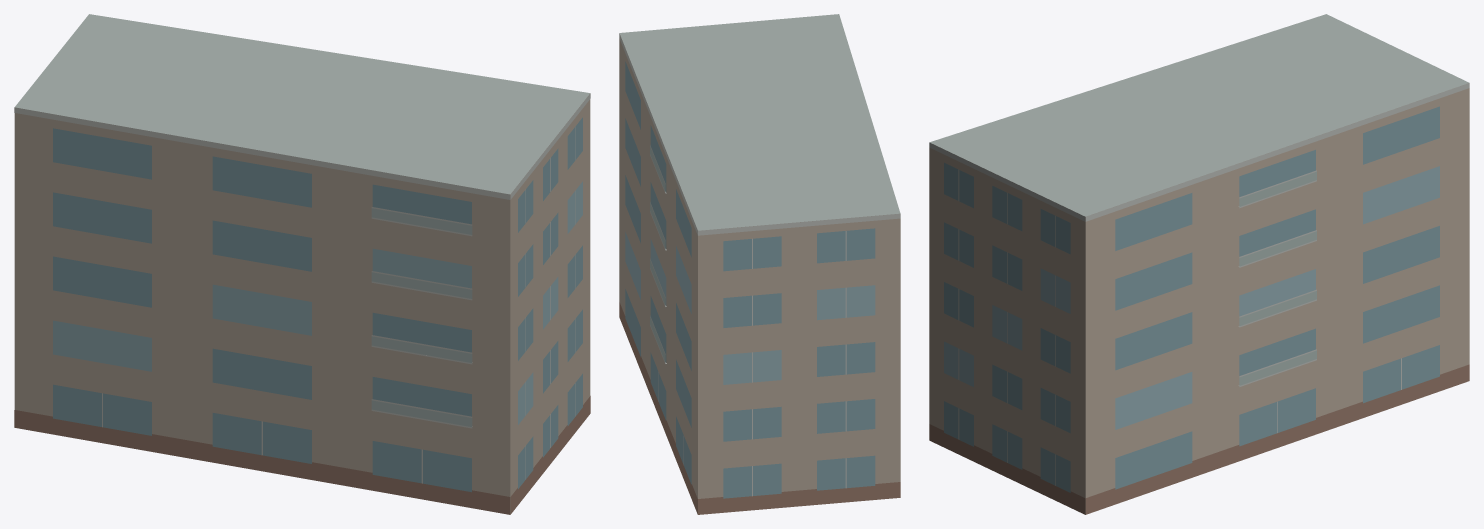
File: survey-upis-32725034.glb
3 views of the same model, side by side, from view 1: azimuth 30°, elevation 25°; view 2: azimuth 150°, elevation 25°; view 3: azimuth 270°, elevation 25° (orthographic). The views are drawn at different scales.
Parts seen in each view (by area): view 1: survey-upis-32725034.tmp; view 2: survey-upis-32725034.tmp; view 3: survey-upis-32725034.tmp.
Part boxes in pixels (x1=…): survey-upis-32725034.tmp: x1=14, y1=14, x2=590, y2=514; survey-upis-32725034.tmp: x1=619, y1=14, x2=900, y2=514; survey-upis-32725034.tmp: x1=929, y1=14, x2=1469, y2=514.
Bounding box in the file's own units: 20.57 × 14.1 × 23.16.
